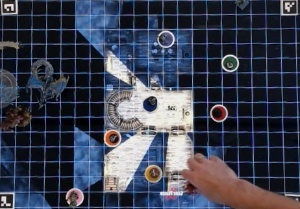blue: (143, 95, 161, 113)
green: (221, 53, 241, 74)
orange: (101, 126, 123, 146)
pink: (62, 186, 87, 207)
red: (211, 103, 231, 121)
violet: (154, 29, 177, 51)
yellow: (144, 162, 166, 183)
